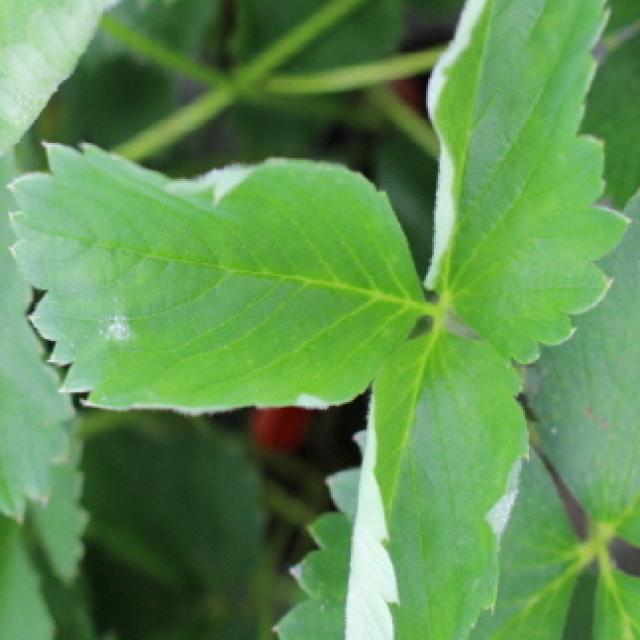Powdery Mildew Leaf: (6, 139, 430, 415), (422, 0, 634, 369), (346, 326, 530, 640)
